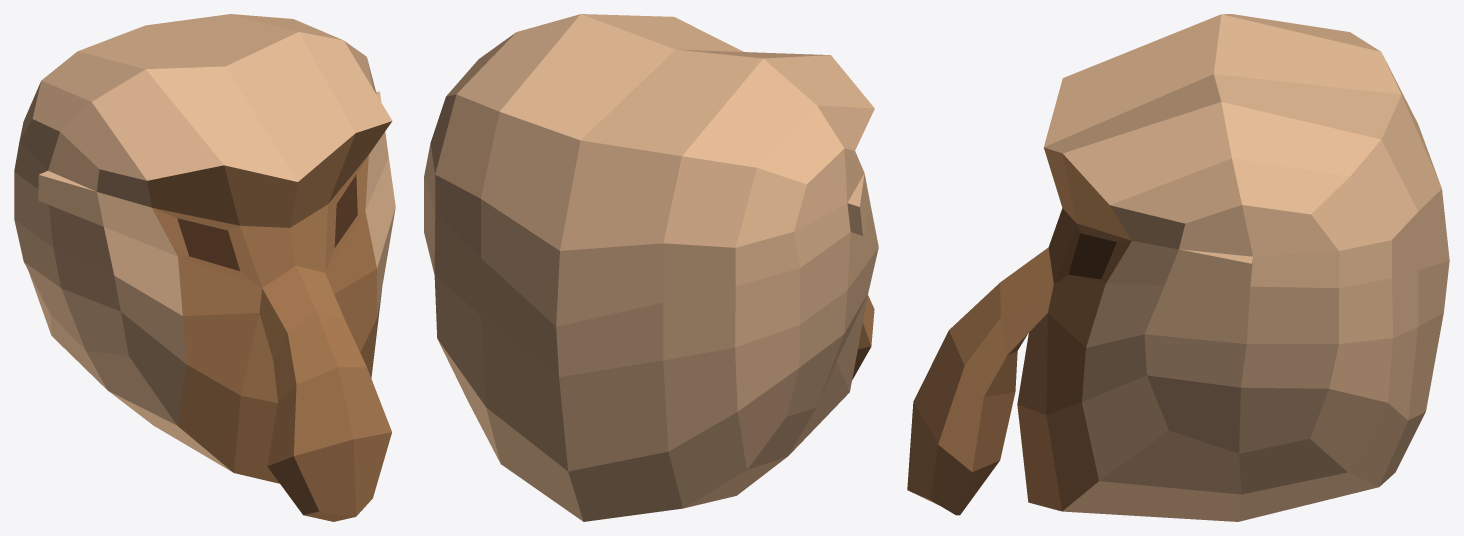
File: Bekantan_Kepala.fbx
The picture shows the model from 3 angles, left to right: view 1: azimuth 30°, elevation 25°; view 2: azimuth 150°, elevation 25°; view 3: azimuth 270°, elevation 25°; orthographic projection. The views are drawn at different scales.
Parts seen in each view (by area): view 1: Kepala; view 2: Kepala; view 3: Kepala.
Part boxes in pixels (<box>): Kepala: <box>14,14,395,521</box>; Kepala: <box>424,14,878,521</box>; Kepala: <box>907,14,1449,521</box>.
Size of the model in its own units: 125 by 135 by 145.
